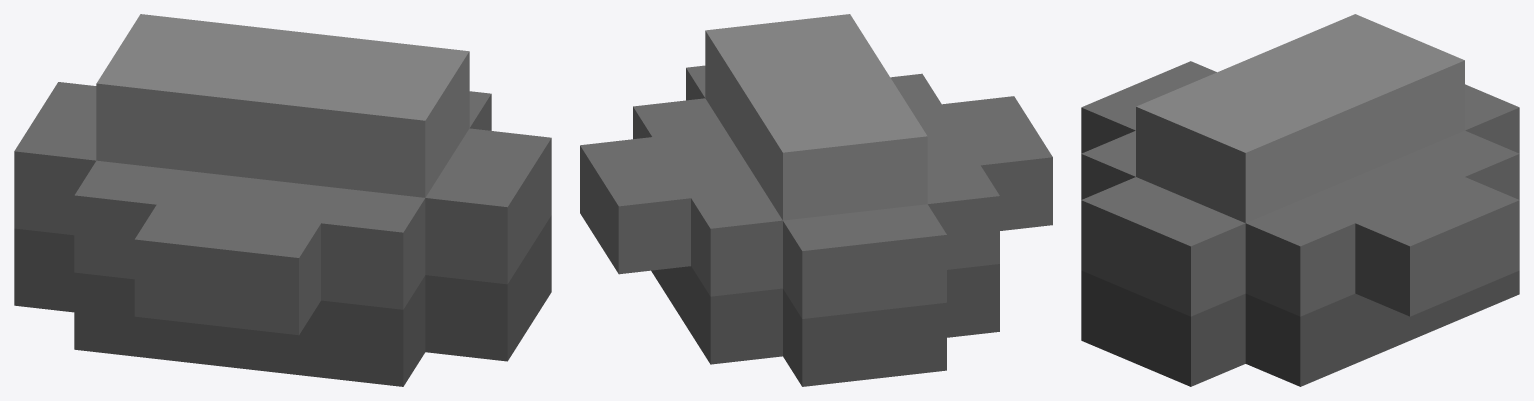
File: item_THROWING_STONE.glb
The picture shows the model from 3 angles, left to right: view 1: azimuth 30°, elevation 25°; view 2: azimuth 150°, elevation 25°; view 3: azimuth 270°, elevation 25°; orthographic projection. The views are drawn at different scales.
Visible parts, largest first — view 1: item_THROWING_STONE; view 2: item_THROWING_STONE; view 3: item_THROWING_STONE.
Part boxes in pixels (left/top/right/bottom): item_THROWING_STONE: left=14, top=14, right=551, bottom=386; item_THROWING_STONE: left=580, top=14, right=1052, bottom=386; item_THROWING_STONE: left=1081, top=14, right=1519, bottom=386.
Bounding box in the file's own units: 0.2571 × 0.1364 × 0.2571.
Materials: 1 (1 with a texture image).
